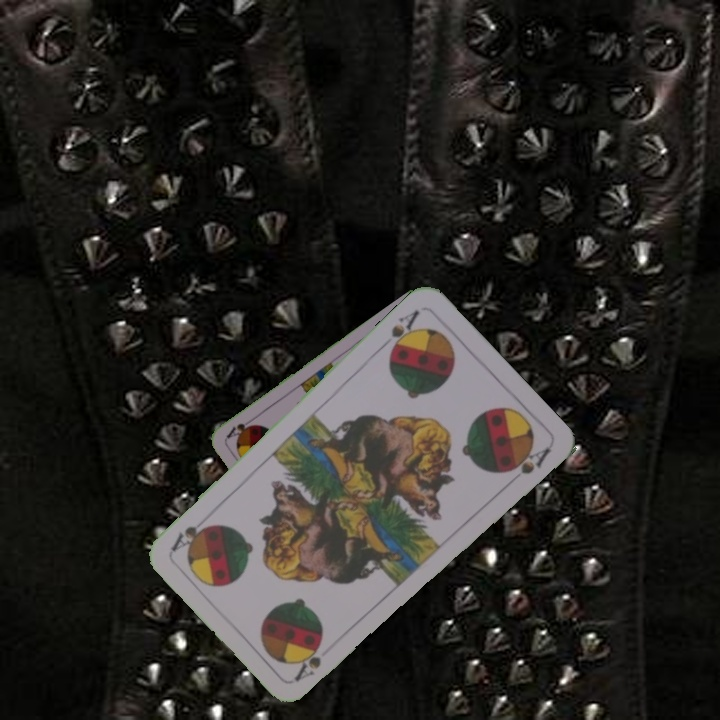SA: (377, 306, 422, 358), (290, 645, 324, 684)
